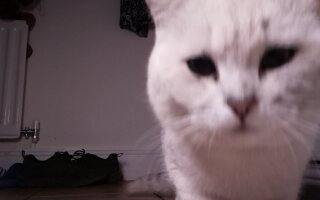bad: (143, 1, 319, 199)
